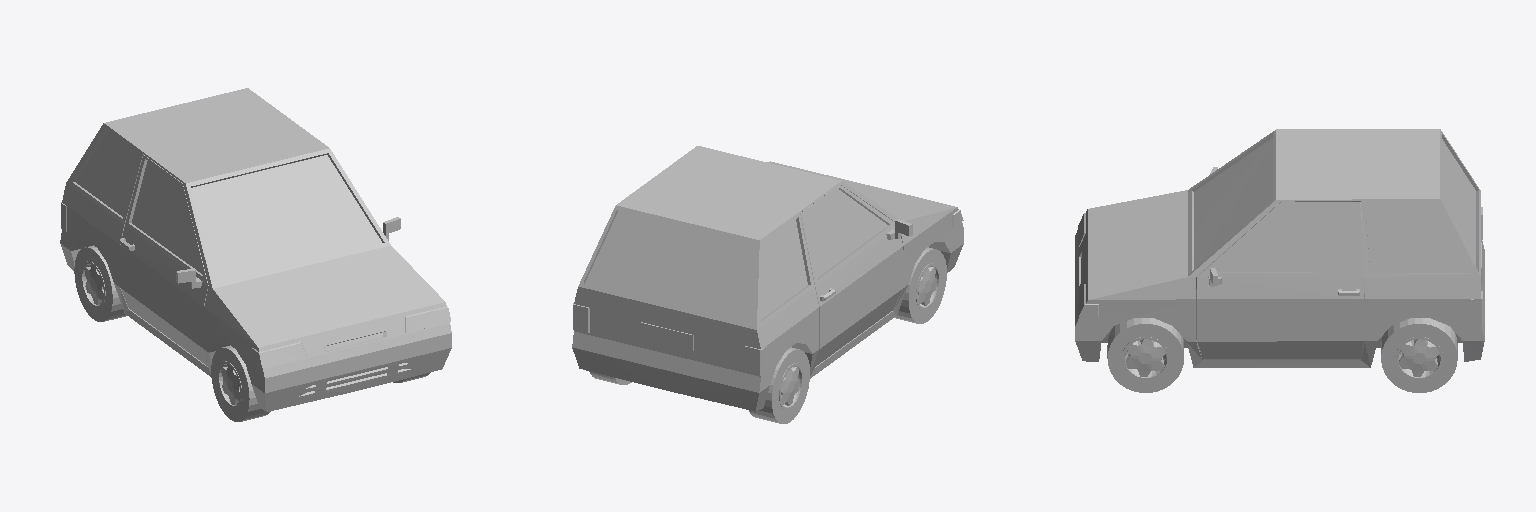
File: car.obj
3 views of the same model, side by side, from view 1: azimuth 30°, elevation 25°; view 2: azimuth 150°, elevation 25°; view 3: azimuth 270°, elevation 25° (orthographic).
Parts seen in each view (by area): view 1: car_body, windows, door_r, win_door_r.001, wheel_fr, wheel_br; view 2: car_body, windows, door_r, win_door_r.001, wheel_br, wheel_fr, free_number; view 3: car_body, door_l, windows, win_door_l.001, wheel_bl, wheel_fl.
Boxes of the visible parts, x1,y1,x2,y2 form: car_body: [60, 88, 451, 411]; windows: [76, 131, 381, 283]; door_r: [119, 155, 208, 365]; win_door_r.001: [132, 161, 201, 273]; wheel_fr: [211, 345, 270, 421]; wheel_br: [74, 245, 126, 321]; car_body: [572, 146, 963, 411]; windows: [585, 211, 807, 324]; door_r: [800, 185, 912, 366]; win_door_r.001: [804, 189, 887, 277]; wheel_br: [749, 347, 809, 423]; wheel_fr: [894, 247, 946, 323]; free_number: [641, 322, 693, 350]; car_body: [1075, 129, 1484, 367]; door_l: [1196, 202, 1364, 359]; windows: [1194, 138, 1475, 272]; win_door_l.001: [1215, 204, 1358, 272]; wheel_bl: [1381, 318, 1457, 392]; wheel_fl: [1107, 318, 1183, 392].
Bounding box in the file's own units: 2.18 × 1.71 × 3.46.